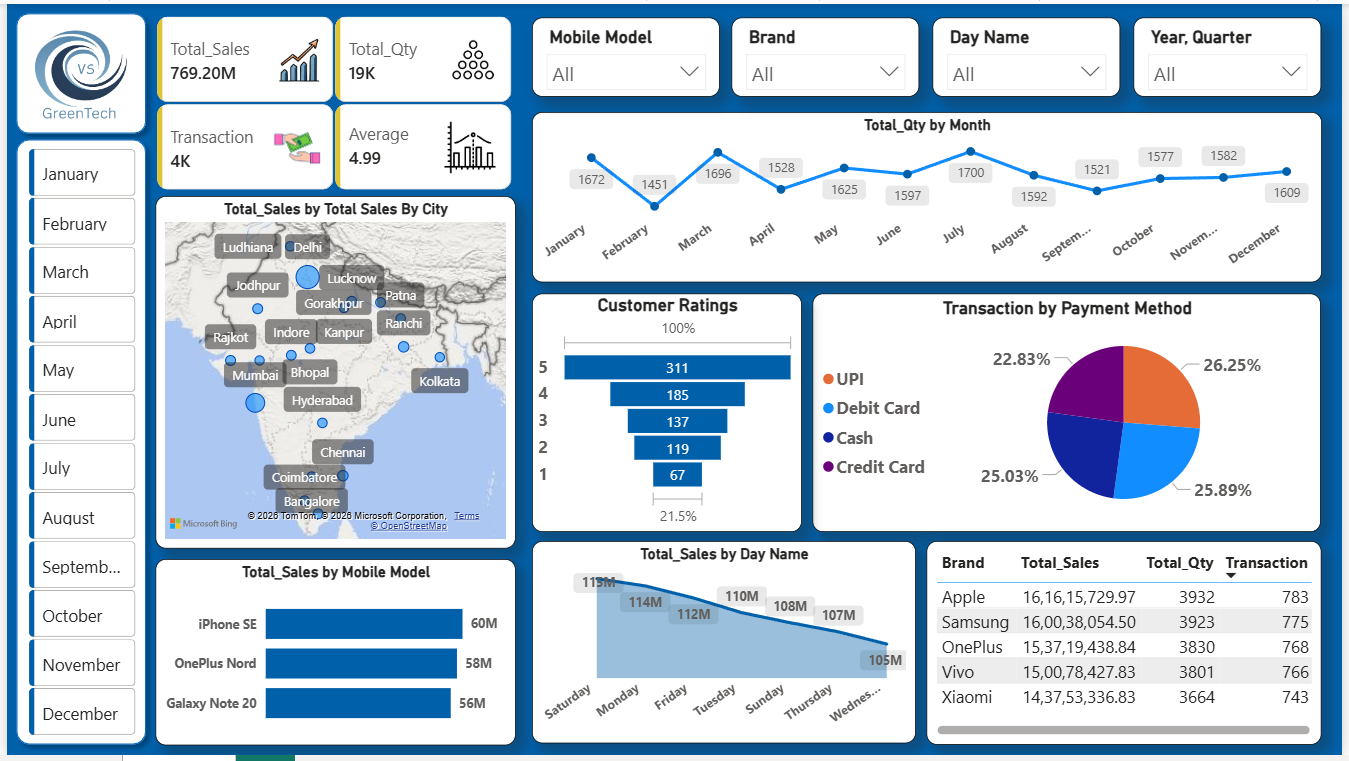

This screenshot's page, from the dashboard's own definition file:
{"tool":"powerbi","page":{"name":"Page 1","canvas":[1280,720],"ordinal":0},"visuals":[{"type":"shape","box":[0,0,142.3,133.3],"z":0},{"type":"image","box":[15.1,13.6,112.1,107.5],"z":1000},{"type":"shape","box":[0,121.1,142.3,598.1],"z":2000},{"type":"advancedSlicerVisual","fields":{"Values":["Mobile_Sales.Dates.Variation.Date Hierarchy.Month"]},"box":[15.1,133.3,112.1,575.4],"z":3000},{"type":"cardVisual","fields":{"Data":["Mobile_Sales.Total_Sales","Mobile_Sales.Total_Qty","Mobile_Sales.Transaction","Mobile_Sales.Average"]},"box":[127.2,0,375.5,195.3],"z":4000},{"type":"map","fields":{"Category":["Mobile_Sales.City"],"Size":["Mobile_Sales.Total_Sales"]},"box":[142.3,184.7,345.2,337.7],"z":5000},{"type":"lineChart","fields":{"Y":["Mobile_Sales.Total_Qty"],"Category":["Mobile_Sales.Dates.Variation.Date Hierarchy.Month","Mobile_Sales.Dates.Variation.Date Hierarchy.Day"]},"box":[502.7,103,757.1,163.5],"z":6000},{"type":"barChart","fields":{"Category":["Mobile_Sales.Mobile Model"],"Y":["Mobile_Sales.Total_Sales"]},"box":[142.3,531.5,345.2,178.7],"z":7000},{"type":"pieChart","fields":{"Y":["Mobile_Sales.Transaction"],"Category":["Mobile_Sales.Payment Method"]},"box":[772.2,277.1,487.6,228.6],"z":8000},{"type":"funnel","title":"Customer Ratings","fields":{"Category":["Mobile_Sales.Customer Ratings"],"Y":["CountNonNull(Mobile_Sales.Customer Ratings)"]},"box":[502.7,277.1,258.9,228.6],"z":9000},{"type":"areaChart","fields":{"Category":["Mobile_Sales.Day Name"],"Y":["Mobile_Sales.Total_Sales"]},"box":[502.7,514.8,368,193.8],"z":10000},{"type":"tableEx","fields":{"Values":["Mobile_Sales.Brand","Mobile_Sales.Total_Sales","Mobile_Sales.Total_Qty","Mobile_Sales.Transaction"]},"box":[881.3,514.8,378.6,195.3],"z":11000},{"type":"slicer","fields":{"Values":["Mobile_Sales.Mobile Model"]},"box":[502.7,13.6,180,75.7],"z":12000},{"type":"slicer","fields":{"Values":["Mobile_Sales.Brand"]},"box":[695,13.6,180.2,75.7],"z":13000},{"type":"slicer","fields":{"Values":["Mobile_Sales.Brand"]},"box":[887.3,13.6,180.2,75.7],"z":14000},{"type":"slicer","fields":{"Values":["Mobile_Sales.Dates.Variation.Date Hierarchy.Year","Mobile_Sales.Dates.Variation.Date Hierarchy.Quarter"]},"box":[1079.6,13.6,180.2,75.7],"z":15000}]}

Visuals, with their boxes in screenshot pixels (x1, y1, x2, y2), scaled from the page's 1280x720 canvas onto the 1349x761 screenshot:
shape: box=[0, 0, 150, 141]
image: box=[16, 14, 134, 128]
shape: box=[0, 128, 150, 760]
advancedSlicerVisual - Mobile_Sales.Dates.Variation.Date Hierarchy.Month: box=[16, 141, 134, 749]
cardVisual - Mobile_Sales.Total_Sales x Mobile_Sales.Total_Qty: box=[134, 0, 530, 206]
map - Mobile_Sales.City x Mobile_Sales.Total_Sales: box=[150, 195, 514, 552]
lineChart - Mobile_Sales.Total_Qty x Mobile_Sales.Dates.Variation.Date Hierarchy.Month: box=[530, 109, 1328, 282]
barChart - Mobile_Sales.Mobile Model x Mobile_Sales.Total_Sales: box=[150, 562, 514, 751]
pieChart - Mobile_Sales.Transaction x Mobile_Sales.Payment Method: box=[814, 293, 1328, 534]
"Customer Ratings" funnel: box=[530, 293, 803, 534]
areaChart - Mobile_Sales.Day Name x Mobile_Sales.Total_Sales: box=[530, 544, 918, 749]
tableEx - Mobile_Sales.Brand x Mobile_Sales.Total_Sales: box=[929, 544, 1328, 751]
slicer - Mobile_Sales.Mobile Model: box=[530, 14, 720, 94]
slicer - Mobile_Sales.Brand: box=[732, 14, 922, 94]
slicer - Mobile_Sales.Brand: box=[935, 14, 1125, 94]
slicer - Mobile_Sales.Dates.Variation.Date Hierarchy.Year x Mobile_Sales.Dates.Variation.Date Hierarchy.Quarter: box=[1138, 14, 1328, 94]
